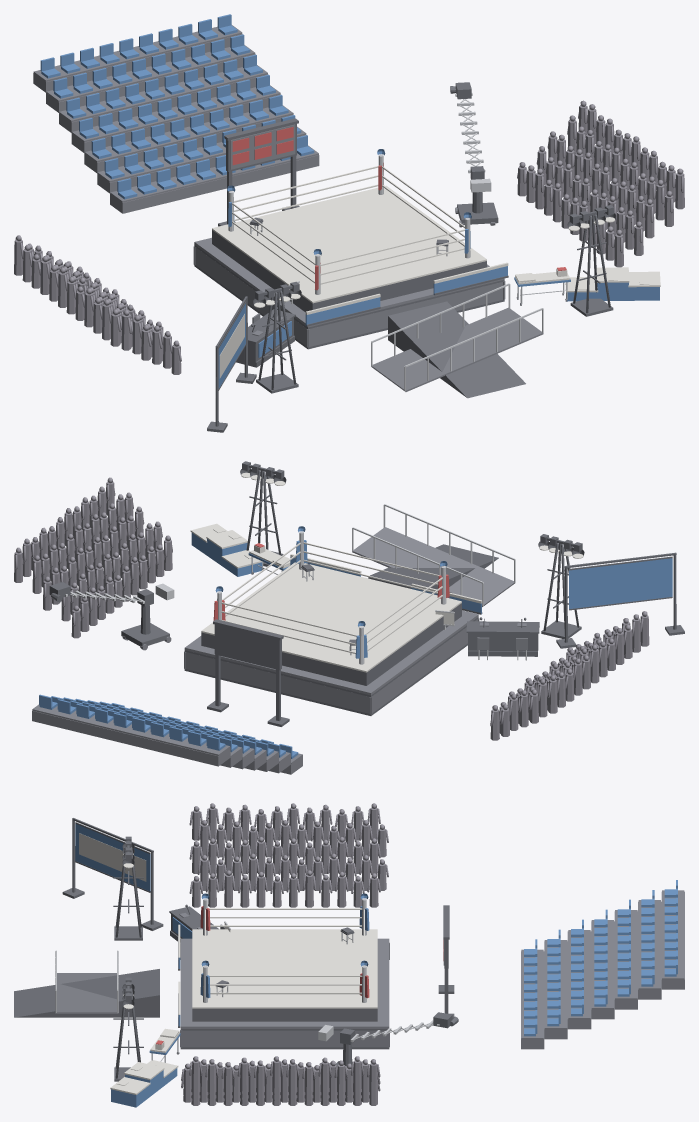
File: martial-arts-dojo-and-fight-stages-fight-394bf497-starter-scene__18095.glb
3 views of the same model, one above another, from view 1: azimuth 30°, elevation 25°; view 2: azimuth 150°, elevation 25°; view 3: azimuth 270°, elevation 25° (orthographic). The views are drawn at different scales.
Visible parts, largest first — view 1: 009-arena-stand-block/2, 001-boxing-ring/1, 008-crowd-block/0, 009-arena-stand-block/1, 009-arena-stand-block/0, 007-crowd-block/0, 000-platform-stage/1, 002-entrance-ramp/0, 002-entrance-ramp/1, 001-boxing-ring/5, 001-boxing-ring/0, 010-spotlight-rig/0 (+15 smaller); view 2: 001-boxing-ring/1, 008-crowd-block/0, 000-platform-stage/1, 007-crowd-block/0, 009-arena-stand-block/2, 017-event-banner/1, 002-entrance-ramp/1, 009-arena-stand-block/0, 012-scoreboard/0, 001-boxing-ring/5, 001-boxing-ring/0, 002-entrance-ramp/0 (+13 smaller); view 3: 007-crowd-block/0, 001-boxing-ring/1, 009-arena-stand-block/2, 008-crowd-block/0, 009-arena-stand-block/1, 000-platform-stage/1, 002-entrance-ramp/0, 009-arena-stand-block/0, 001-boxing-ring/0, 001-boxing-ring/5, 002-entrance-ramp/1, 017-event-banner/1 (+12 smaller).
Part boxes in pixels (left/top/right/bottom): 009-arena-stand-block/2: left=40, top=14, right=314, bottom=199; 001-boxing-ring/1: left=212, top=185, right=486, bottom=303; 008-crowd-block/0: left=517, top=100, right=684, bottom=267; 009-arena-stand-block/1: left=33, top=25, right=318, bottom=202; 009-arena-stand-block/0: left=33, top=34, right=319, bottom=213; 007-crowd-block/0: left=14, top=235, right=181, bottom=374; 000-platform-stage/1: left=193, top=237, right=505, bottom=347; 002-entrance-ramp/0: left=388, top=301, right=525, bottom=398; 002-entrance-ramp/1: left=372, top=307, right=543, bottom=391; 001-boxing-ring/5: left=232, top=166, right=465, bottom=284; 001-boxing-ring/0: left=212, top=230, right=486, bottom=312; 010-spotlight-rig/0: left=253, top=281, right=301, bottom=393; 001-boxing-ring/1: left=201, top=562, right=461, bottom=672; 008-crowd-block/0: left=14, top=477, right=172, bottom=638; 000-platform-stage/1: left=184, top=610, right=479, bottom=714; 007-crowd-block/0: left=490, top=611, right=649, bottom=740; 009-arena-stand-block/2: left=39, top=694, right=298, bottom=758; 017-event-banner/1: left=569, top=558, right=672, bottom=608; 002-entrance-ramp/1: left=352, top=527, right=514, bottom=606; 009-arena-stand-block/0: left=32, top=710, right=302, bottom=774; 012-scoreboard/0: left=207, top=619, right=289, bottom=726; 001-boxing-ring/5: left=221, top=542, right=442, bottom=653; 001-boxing-ring/0: left=201, top=603, right=461, bottom=685; 002-entrance-ramp/0: left=368, top=544, right=498, bottom=589; 007-crowd-block/0: left=189, top=803, right=388, bottom=907; 001-boxing-ring/1: left=192, top=929, right=377, bottom=1008; 009-arena-stand-block/2: left=524, top=880, right=677, bottom=1036; 008-crowd-block/0: left=181, top=1056, right=380, bottom=1105; 009-arena-stand-block/1: left=521, top=890, right=684, bottom=1039; 000-platform-stage/1: left=180, top=938, right=389, bottom=1047; 002-entrance-ramp/0: left=14, top=969, right=159, bottom=1017; 009-arena-stand-block/0: left=521, top=891, right=684, bottom=1049; 001-boxing-ring/0: left=192, top=1008, right=377, bottom=1021; 001-boxing-ring/5: left=205, top=908, right=364, bottom=994; 002-entrance-ramp/1: left=55, top=973, right=118, bottom=1013; 017-event-banner/1: left=75, top=823, right=150, bottom=891.
Size of the model in its own units: 23.25 by 3.76 by 25.75.
